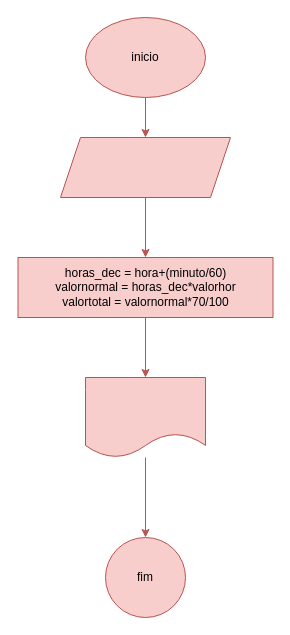
This 290x635 diagram has some shape labels left out. The shapes that lost their labels are listed below. From the top down, each one's centre as x and y in pixels, then its label:
[145,167]: hora,minuto,valorhor
[145,417]: valortotal
